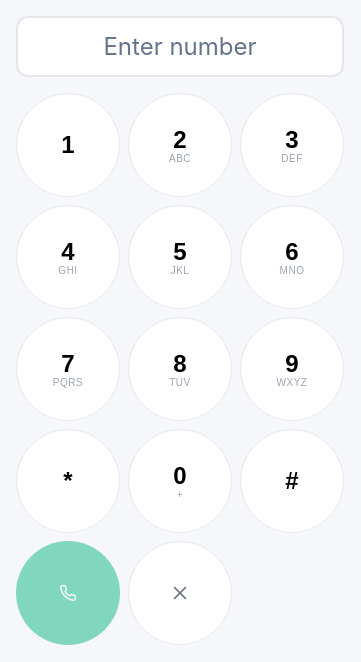
it: Dialpad.vue › Digit Input › should append multiple digits in sequence
Click the button with test id "dtmf-1": (68, 145) [16,93,120,197]
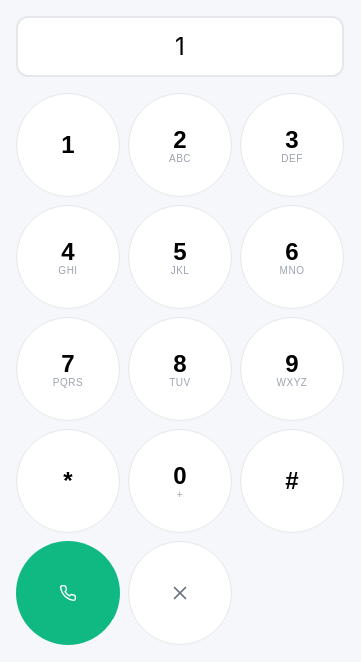
Click the button with test id "dtmf-2": (180, 145) [128,93,232,197]
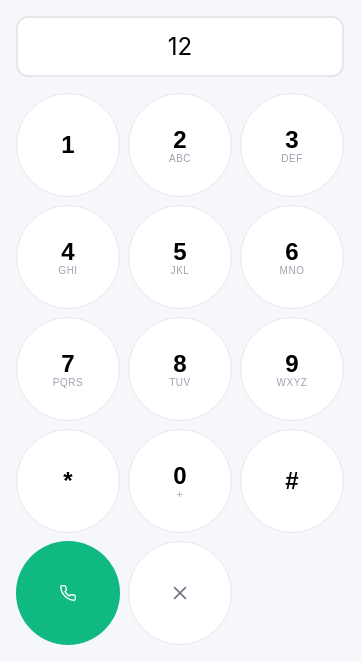
Click the button with test id "dtmf-3": (292, 145) [240,93,344,197]
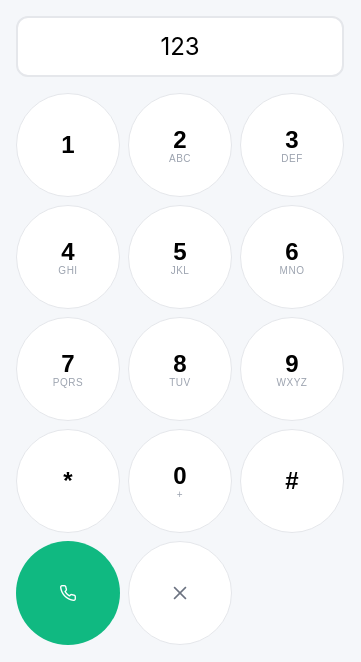
Expected: the field with test id "dialpad-input" holds "123", [16,16,344,77]
